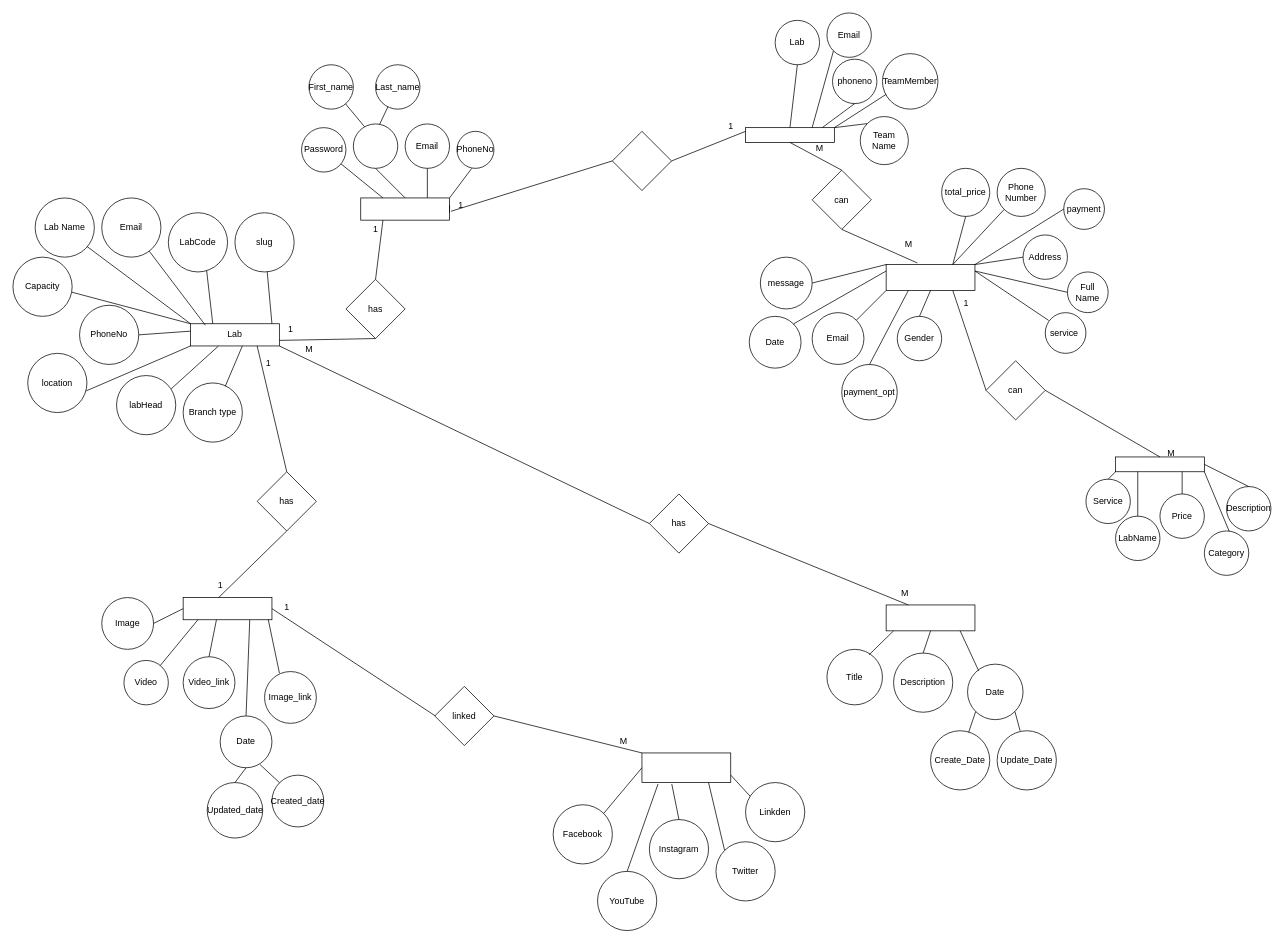
Some shapes in this 1284 by 944 pixel diagram are drawn without their labels. Each missing label, with the box of its shape:
Account: (360, 197, 450, 220)
Banner: (182, 597, 272, 620)
Booking: (885, 264, 975, 290)
Faqs: (885, 604, 975, 631)
join: (612, 131, 672, 191)
Service Management: (1115, 456, 1204, 472)
SocialMedia: (641, 752, 731, 783)
Team: (745, 127, 834, 142)
UserName: (353, 123, 398, 168)
